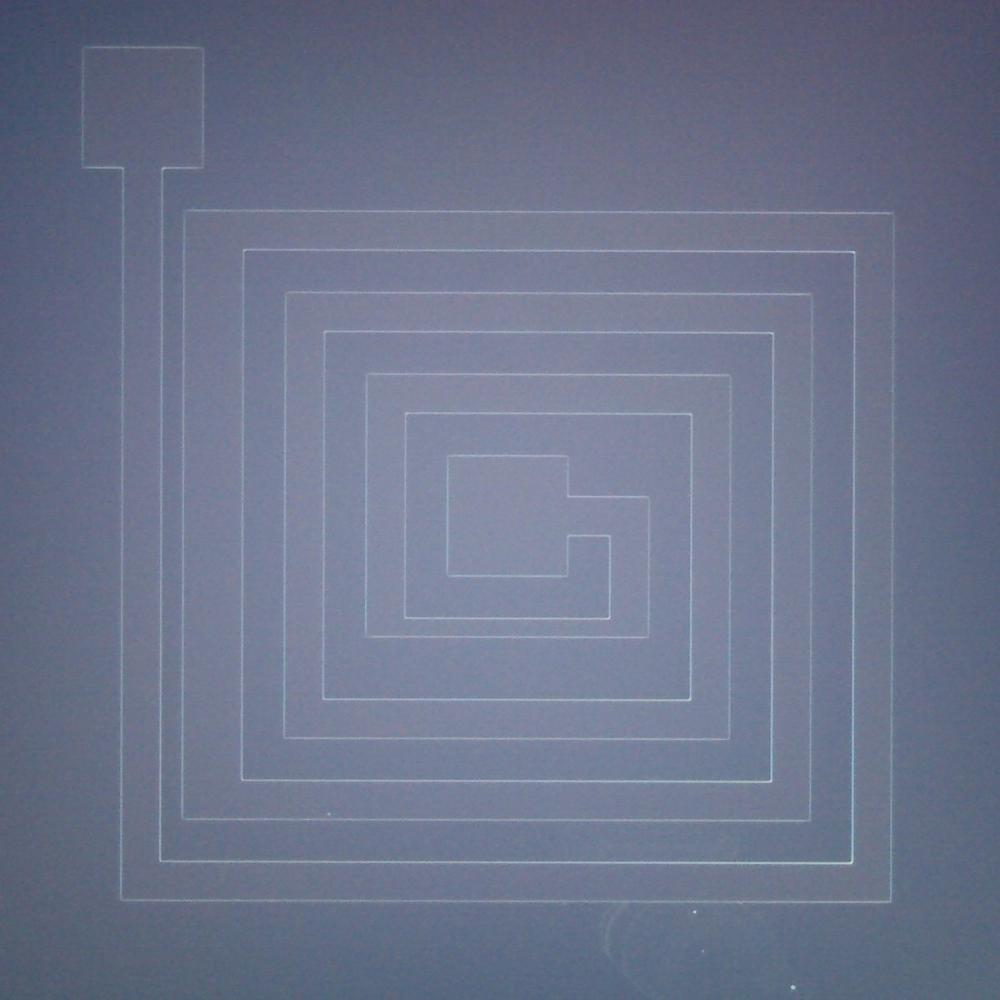dot: (769, 971, 810, 1000), (679, 903, 709, 923)
fat circuit: (174, 200, 254, 837)
thin circuit: (360, 598, 664, 652)
